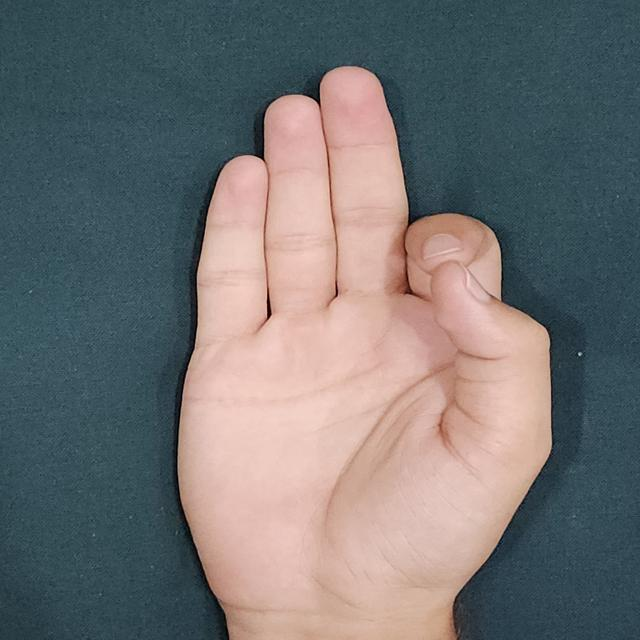ث: (163, 58, 560, 622)
